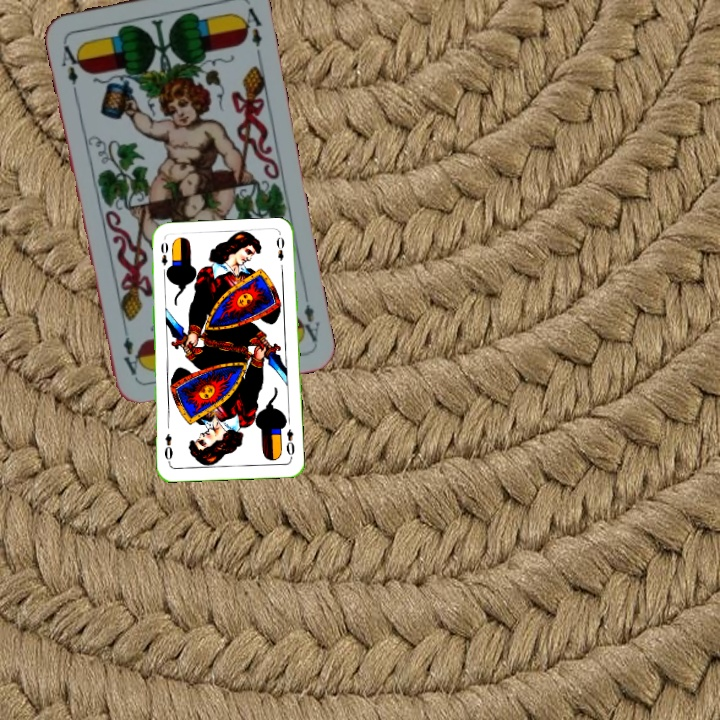EA: (57, 37, 85, 88), (293, 300, 323, 345)
EO: (283, 425, 297, 461), (156, 238, 170, 268)
